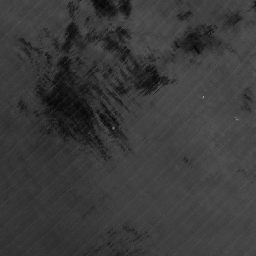Target: (110, 125, 116, 131)
